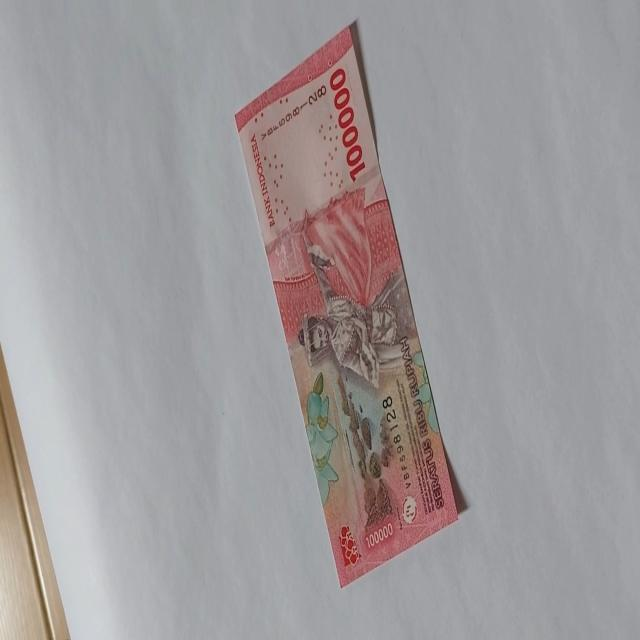seratus ribu rupiah: (233, 23, 460, 588), (296, 239, 402, 391)
